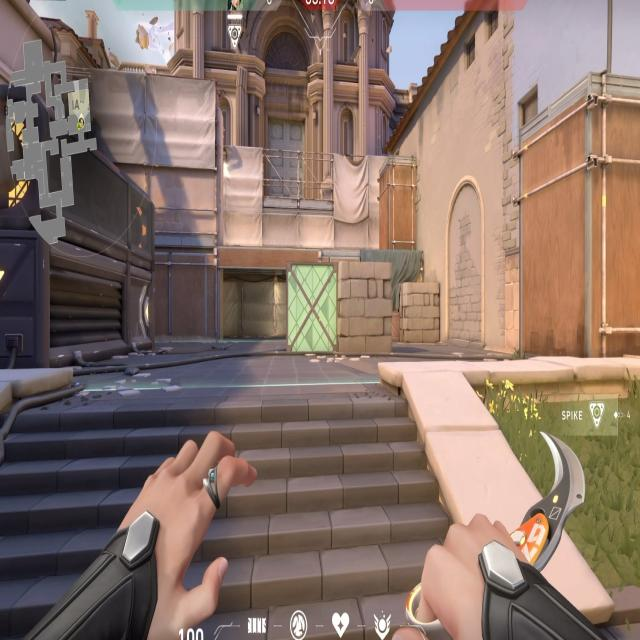A_Heaven_Box: (373, 150, 423, 252)
A_Heaven_Wall: (120, 54, 232, 246)
A_Hell: (208, 236, 300, 342)
A_Site_Box: (285, 252, 395, 362)
